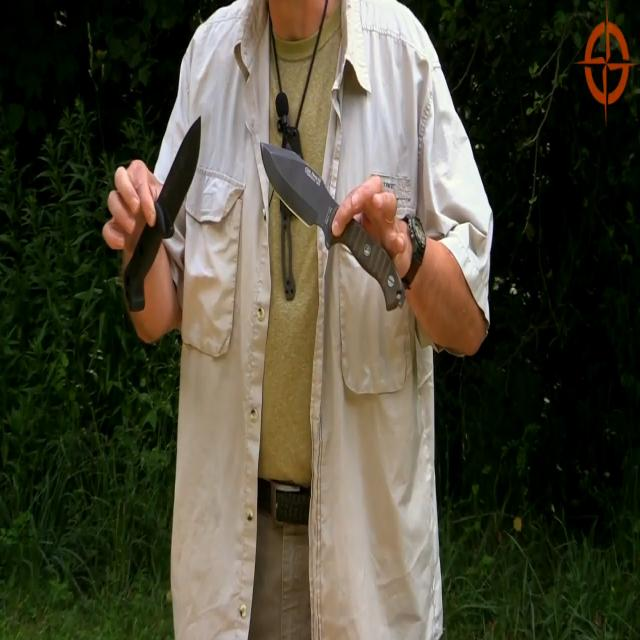knife: (257, 135, 410, 321), (126, 116, 208, 319)
